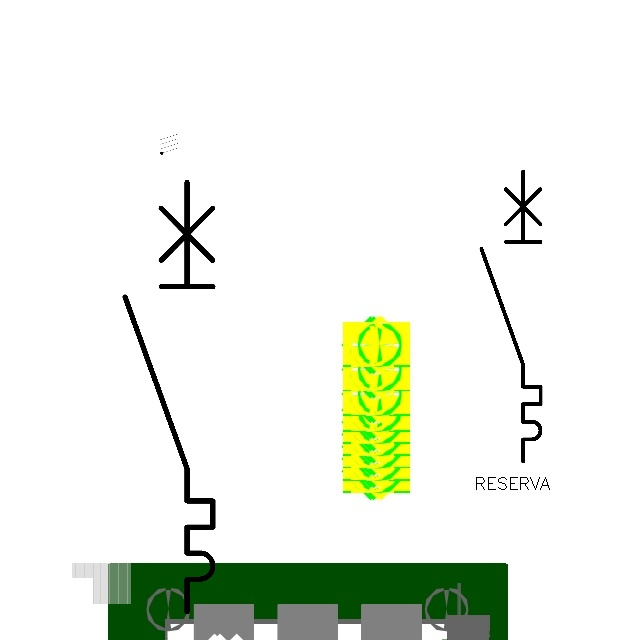interruptor_termomagnetico: (114, 171, 224, 623), (474, 164, 548, 469)
